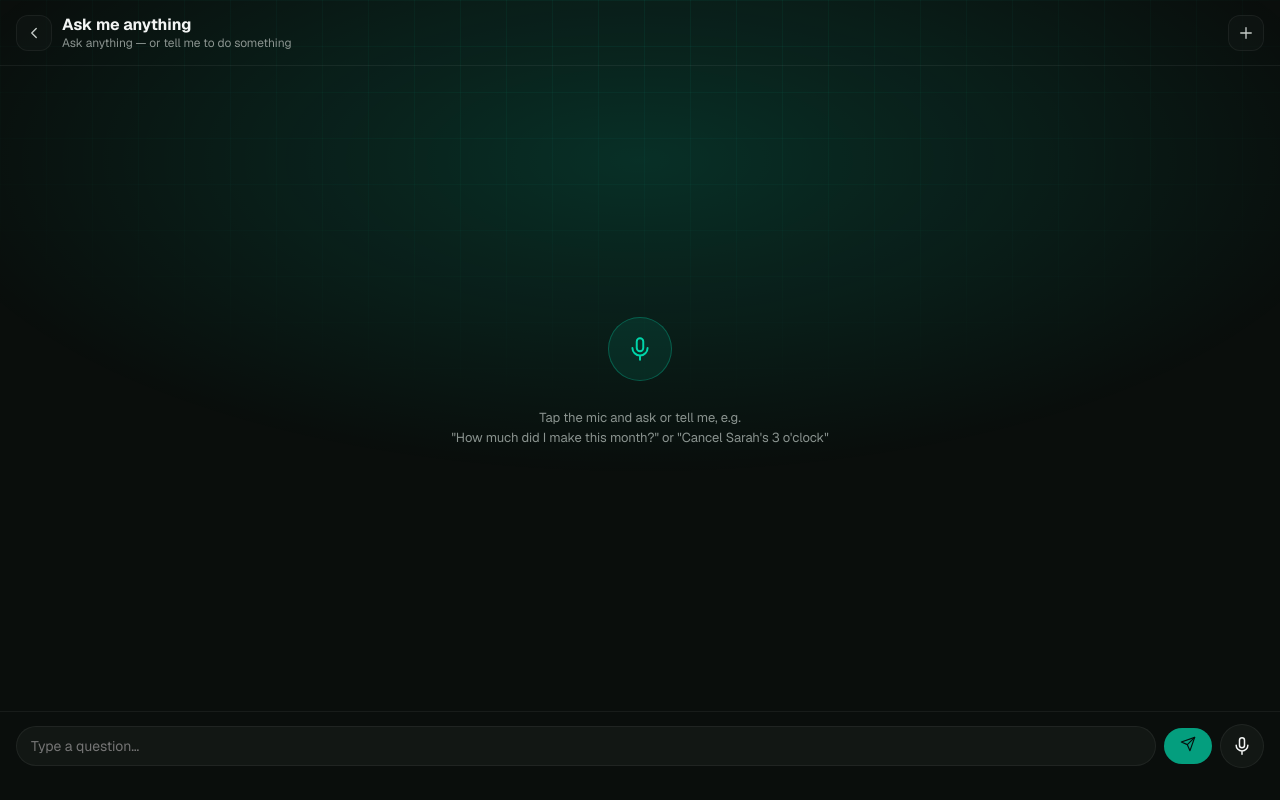
it: VoiceAssistant page › shows a confirm card when the reply carries one, and applies it on tap
In the field with placeholder "Type a question…": (586, 746) top-left (16, 726), bottom-right (1156, 766), type "add staff Jhon"
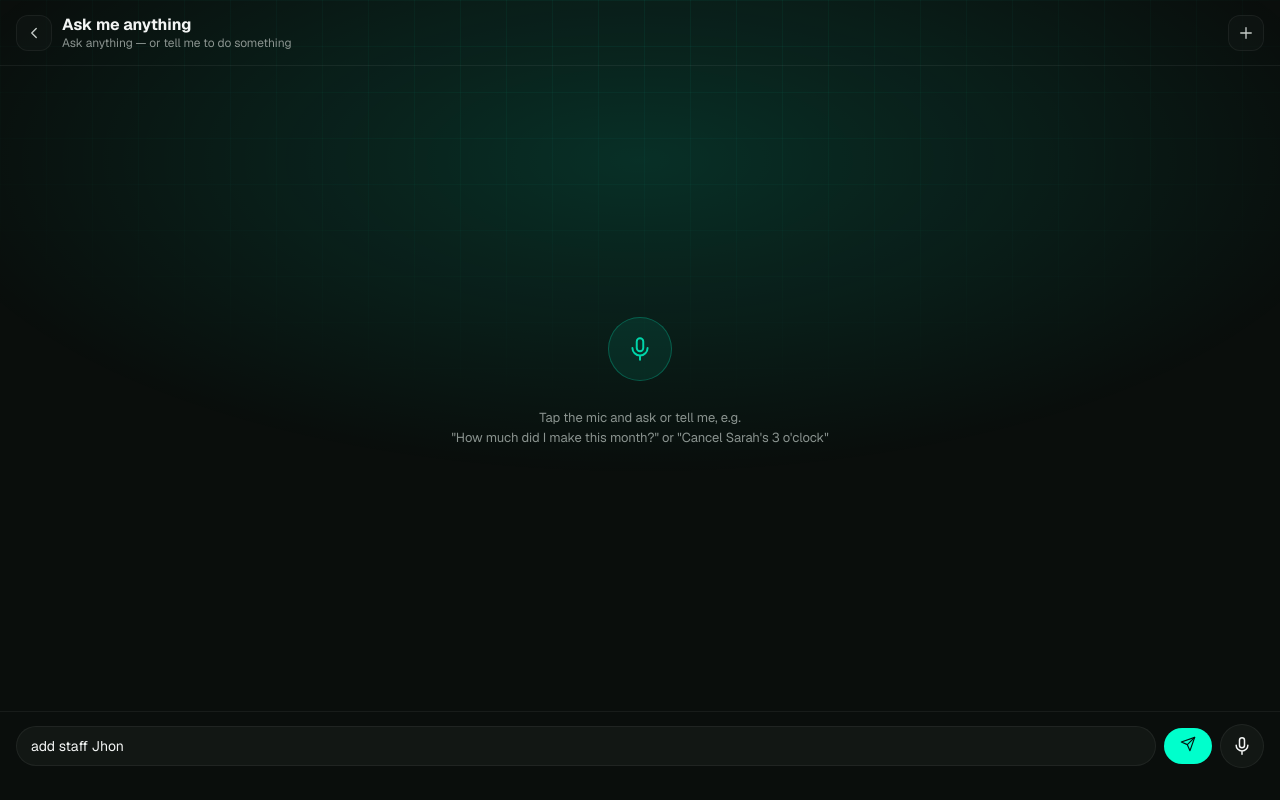
Click the button named "send": (1188, 746) top-left (1164, 728), bottom-right (1212, 764)
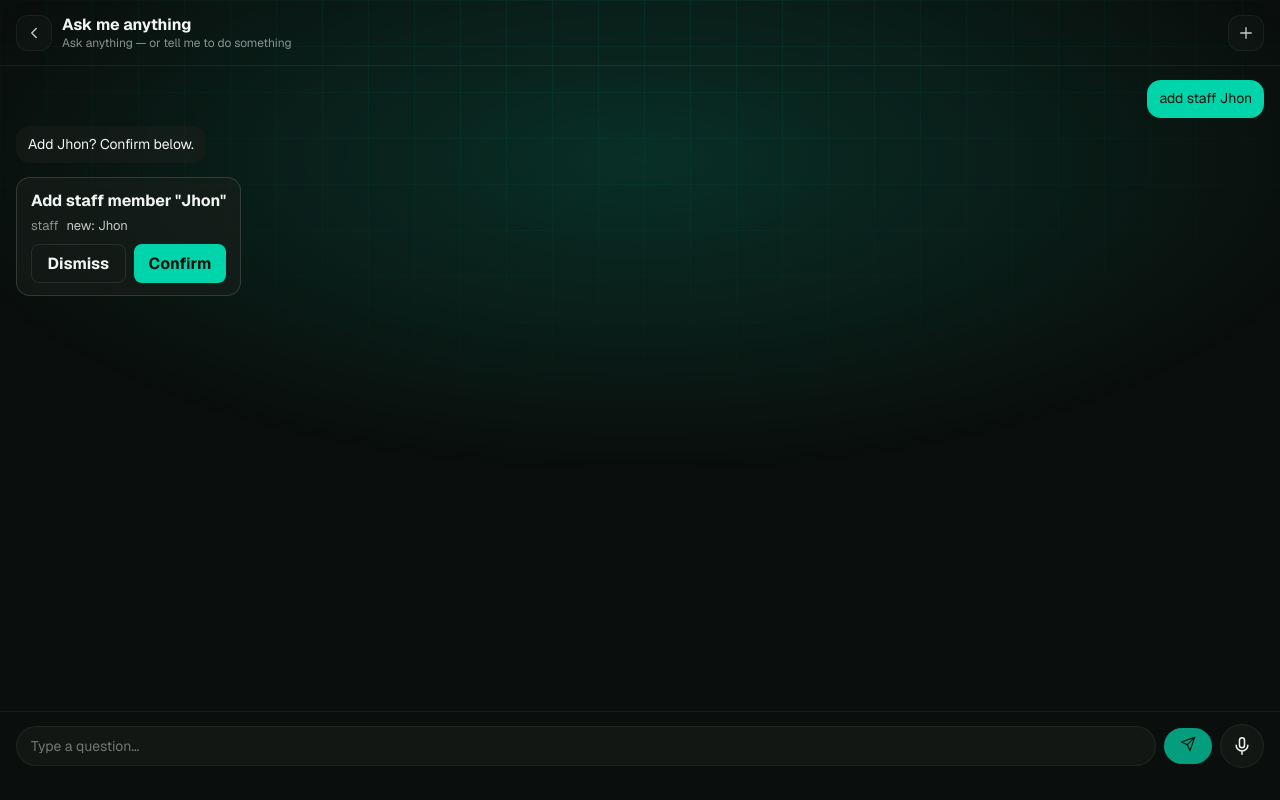
Expected: the text "Add staff member \"Jhon\"" is shown, top-left (31, 190), bottom-right (226, 211)
Expected: the text "new: Jhon" is shown, top-left (66, 217), bottom-right (128, 234)
Click the button "Confirm": (180, 264) top-left (134, 244), bottom-right (226, 283)
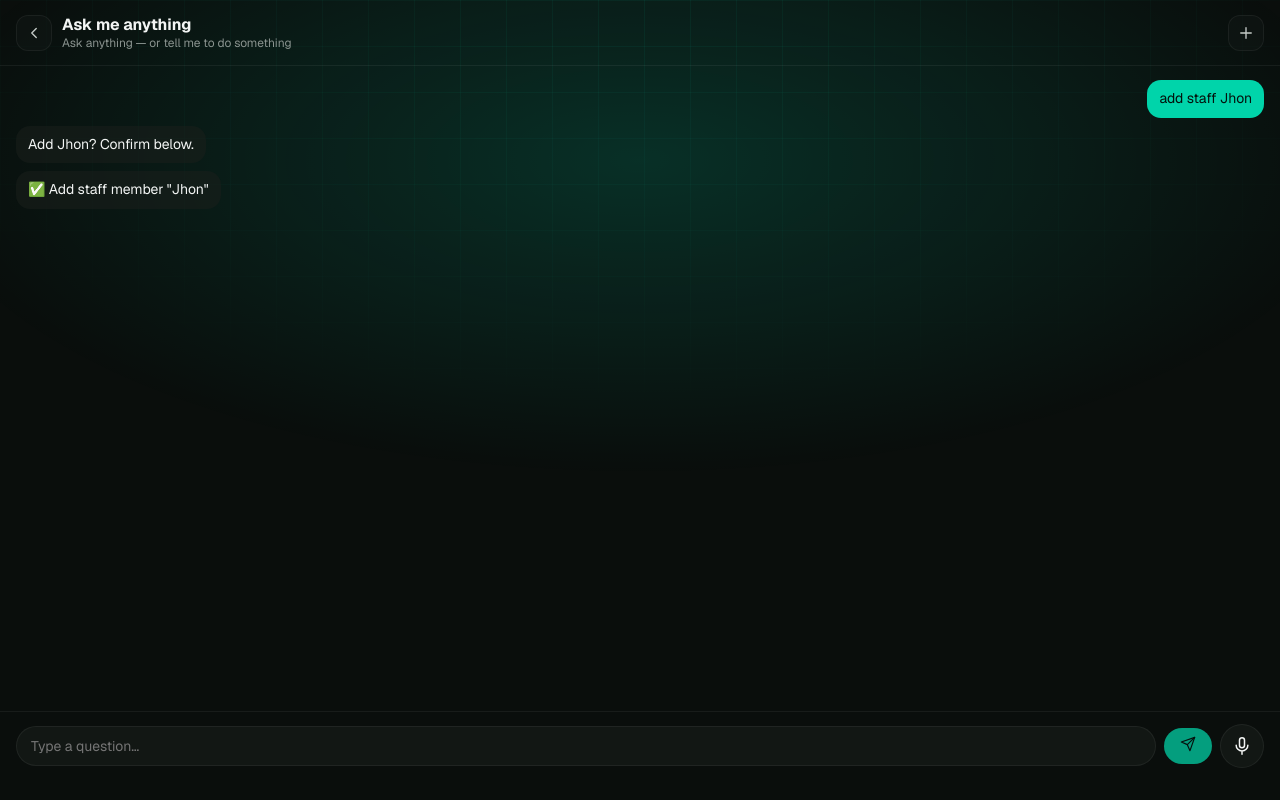
Expected: the text "✅ Add staff member \"Jhon\"" is shown, top-left (28, 180), bottom-right (209, 200)
